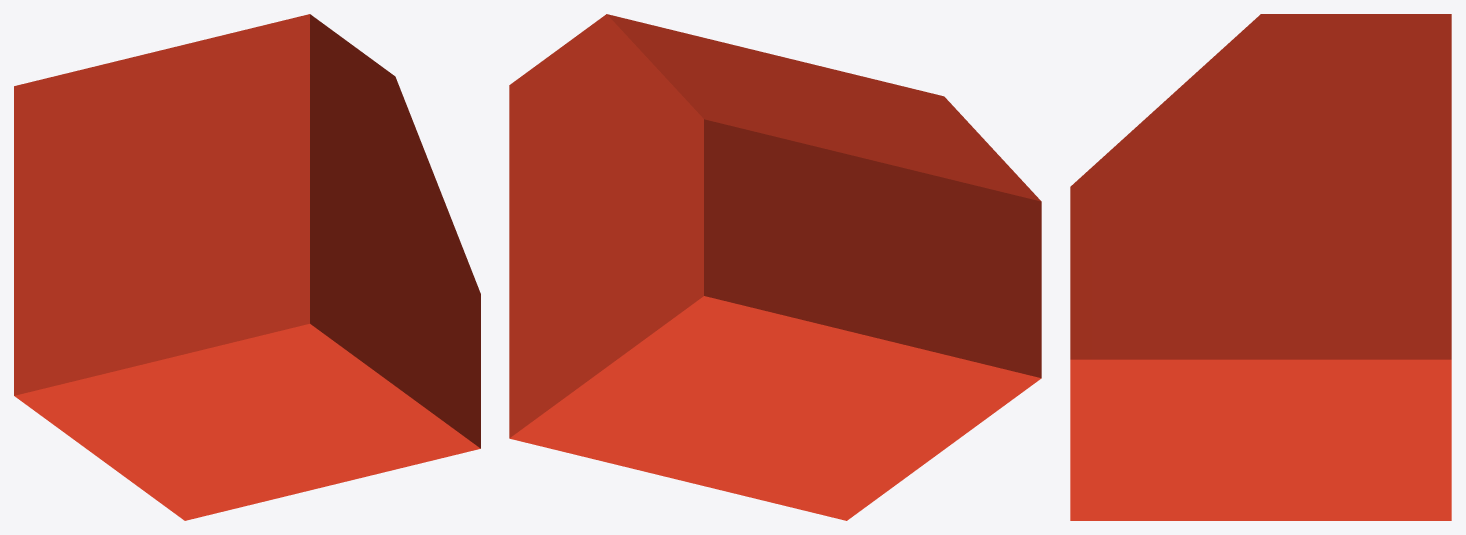
Rendered from r3c6_border_red.gltf.
3 renders of one model, left to right at view 1: azimuth 30°, elevation 25°; view 2: azimuth 150°, elevation 25°; view 3: azimuth 270°, elevation 25°, orthographic. The views are drawn at different scales.
Parts seen in each view (by area): view 1: r3c6_border_red; view 2: r3c6_border_red; view 3: r3c6_border_red.
Part boxes in pixels (box(x1,y1,x2,y2)): r3c6_border_red: box(14, 14, 480, 520); r3c6_border_red: box(509, 14, 1041, 520); r3c6_border_red: box(1070, 14, 1451, 520).
Size of the model in its own units: 2.1 by 2.1 by 2.1.
Materials: 1 (1 with a texture image).
